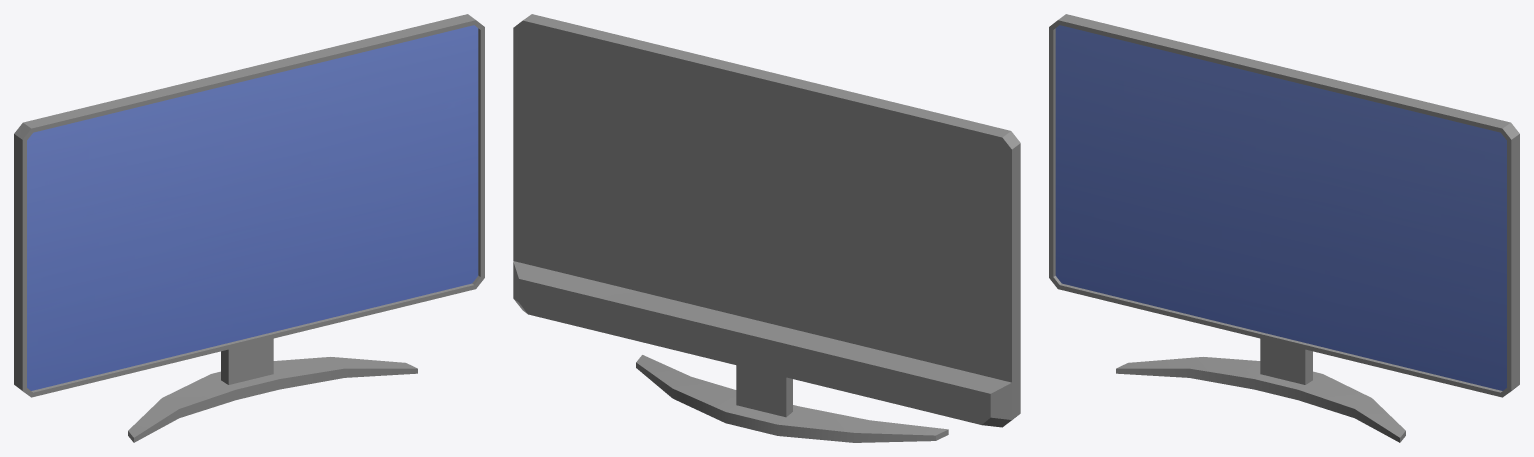
The model's file is monitor2.fbx.
The picture shows the model from 3 angles, left to right: view 1: azimuth 30°, elevation 25°; view 2: azimuth 150°, elevation 25°; view 3: azimuth 330°, elevation 25°; orthographic projection. The views are drawn at different scales.
Parts seen in each view (by area): view 1: monitor2; view 2: monitor2; view 3: monitor2.
Part boxes in pixels (left/top/right/bottom): monitor2: left=14, top=14, right=484, bottom=442; monitor2: left=513, top=14, right=1020, bottom=442; monitor2: left=1049, top=14, right=1519, bottom=442.
Bounding box in the file's own units: 59.51 × 39.04 × 9.07.
